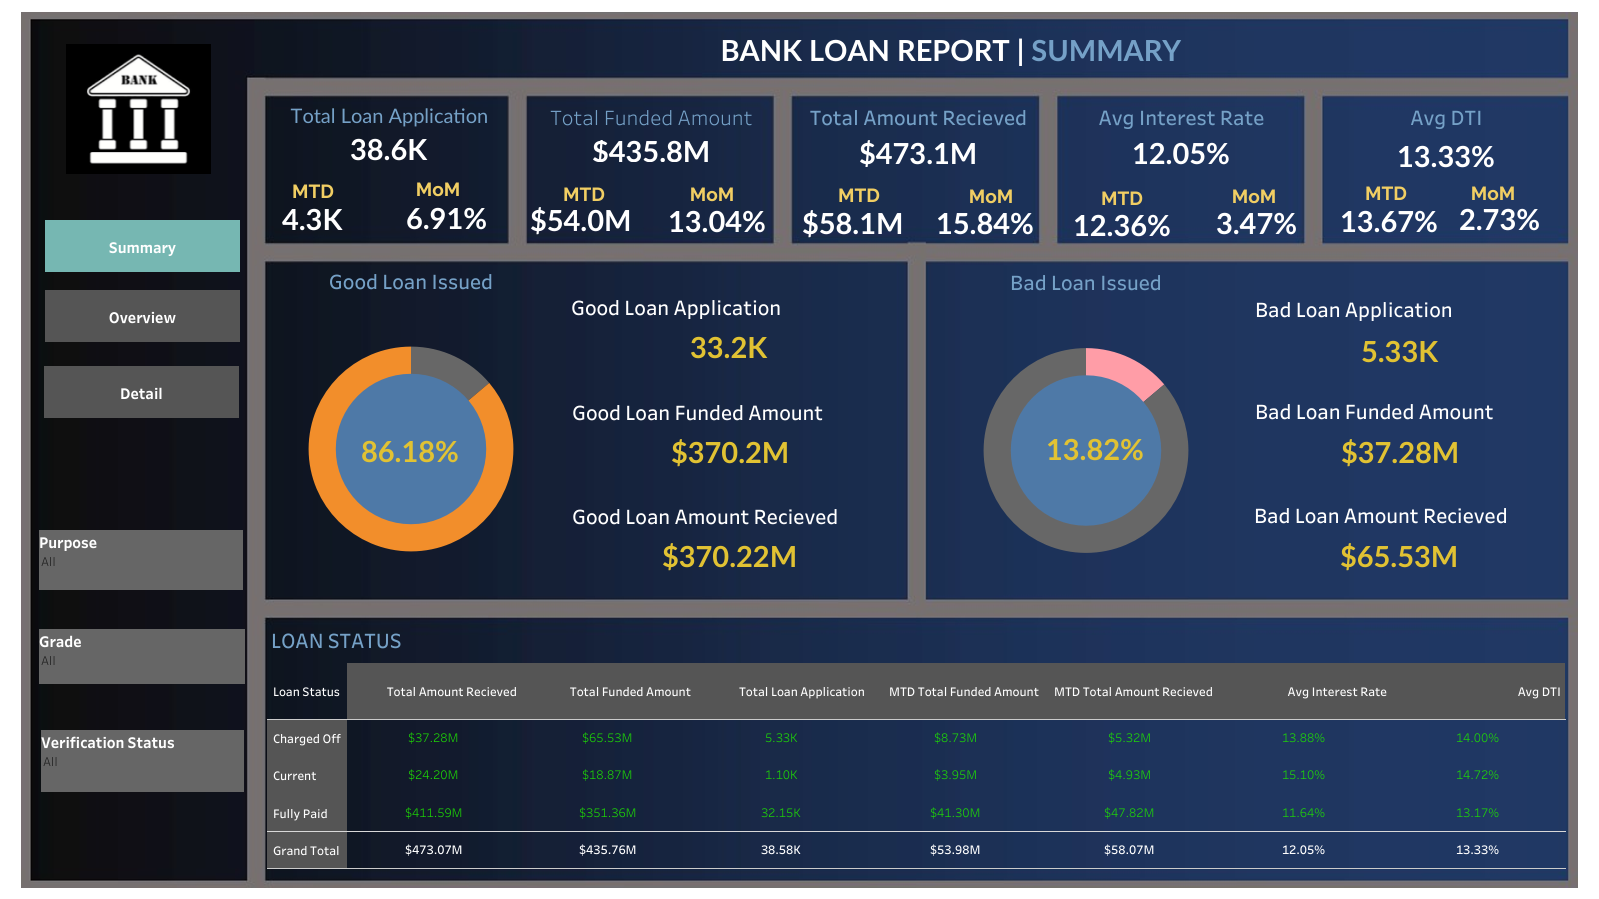

This screenshot's page, from the dashboard's own definition file:
{"tool":"tableau","page":{"name":"Summary","canvas":[1600,900],"ordinal":2},"visuals":[{"type":"image","param":"Image/Tableau Background 1.jpg","box":[8,8,1584,884]},{"type":"text","box":[718,32,466,36]},{"type":"image","param":"Image/download.png","box":[66,36,145,146]},{"type":"worksheet","title":"Total Loan Application","mark":"Automatic","box":[267,97,245,64]},{"type":"worksheet","title":"Total Funded Amount","mark":"Automatic","box":[530,97,243,65]},{"type":"worksheet","title":"Total Amount Recieved","mark":"Automatic","box":[797,97,243,70]},{"type":"worksheet","title":"Avg Interest Rate","mark":"Automatic","box":[1059,97,245,69]},{"type":"worksheet","title":"Avg DTI","mark":"Automatic","box":[1325,97,243,76]},{"type":"text","box":[404,174,68,30]},{"type":"text","box":[279,176,68,30]},{"type":"text","box":[1352,178,68,30]},{"type":"text","box":[1459,178,68,30]},{"type":"text","box":[550,179,68,30]},{"type":"text","box":[678,179,68,30]},{"type":"text","box":[825,180,68,30]},{"type":"text","box":[957,181,68,30]},{"type":"text","box":[1220,181,68,30]},{"type":"text","box":[1088,183,68,30]},{"type":"worksheet","title":"MTD Total Amount Recieved","mark":"Automatic","box":[797,189,113,68]},{"type":"worksheet","title":"MoM Total Funded Amount","mark":"Automatic","box":[664,190,107,62]},{"type":"worksheet","title":"MoM Loan Application","mark":"Automatic","box":[389,193,117,50]},{"type":"worksheet","title":"MoM Avg DTI","mark":"Automatic","box":[1449,195,102,49]},{"type":"worksheet","title":"MoM Avg Interest Rate","mark":"Automatic","box":[1189,196,136,54]},{"type":"worksheet","title":"MoM Total Amount Recieved","mark":"Automatic","box":[932,197,106,52]},{"type":"worksheet","title":"MTD Avg DTI","mark":"Automatic","box":[1328,197,122,48]},{"type":"worksheet","title":"MTD Total Funded Amount","mark":"Automatic","box":[513,199,136,42]},{"type":"worksheet","title":"MTD Avg Interest Rate","mark":"Automatic","box":[1060,200,126,50]},{"type":"worksheet","title":"MTD Total Loan Application","mark":"Automatic","box":[263,204,100,31]},{"type":"dashboard-object","box":[45,220,195,52]},{"type":"worksheet","title":"Good Loan Issued","mark":"Pie","rows":["Calculation_15832980523184248","Calculation_15832980523184248"],"box":[273,261,276,333]},{"type":"worksheet","title":"Bad Loan Issued","mark":"Pie","rows":["Calculation_15832980523184248","Calculation_15832980523184248"],"box":[929,262,314,334]},{"type":"worksheet","title":"Good Loan Application","mark":"Automatic","box":[563,283,333,85]},{"type":"worksheet","title":"Bad Loan Application","mark":"Automatic","box":[1247,285,308,89]},{"type":"dashboard-object","box":[45,290,195,52]},{"type":"dashboard-object","box":[44,366,195,52]},{"type":"worksheet","title":"Bad Loan Funded Amount","mark":"Automatic","box":[1247,387,308,88]},{"type":"worksheet","title":"Good Loan Funded Amount","mark":"Automatic","box":[564,388,333,85]},{"type":"worksheet","title":"Bad Loan Percentage","mark":"Automatic","box":[1017,399,157,101]},{"type":"worksheet","title":"Good Loan Percentage","mark":"Automatic","box":[344,427,133,48]},{"type":"worksheet","title":"Bad Loan Amount Recieved","mark":"Automatic","box":[1246,491,308,88]},{"type":"worksheet","title":"Good Loan Amount Recieved","mark":"Automatic","box":[564,492,333,85]},{"type":"filter","title":"Good Loan Issued","param":"[federated.0mmfcsv0gbctox1frqz0318h6qjj].[none:purpose:nk]","box":[39,530,204,60]},{"type":"worksheet","title":"LOAN STATUS","mark":"Automatic","rows":["loan_status"],"box":[267,620,1299,249]},{"type":"filter","title":"Good Loan Issued","param":"[federated.0mmfcsv0gbctox1frqz0318h6qjj].[none:grade:nk]","box":[39,629,206,55]},{"type":"filter","title":"Good Loan Issued","param":"[federated.0mmfcsv0gbctox1frqz0318h6qjj].[none:verification_status:nk]","box":[41,730,203,62]}]}

Visuals, with their boxes in screenshot pixels (x1, y1, x2, y2), scaled from the page's 1600x900 canvas onto the 1599x899 screenshot:
image: (x1=8, y1=8, x2=1591, y2=891)
text: (x1=718, y1=32, x2=1183, y2=68)
image: (x1=66, y1=36, x2=211, y2=182)
"Total Loan Application" worksheet: (x1=267, y1=97, x2=512, y2=161)
"Total Funded Amount" worksheet: (x1=530, y1=97, x2=773, y2=162)
"Total Amount Recieved" worksheet: (x1=797, y1=97, x2=1039, y2=167)
"Avg Interest Rate" worksheet: (x1=1058, y1=97, x2=1303, y2=166)
"Avg DTI" worksheet: (x1=1324, y1=97, x2=1567, y2=173)
text: (x1=404, y1=174, x2=472, y2=204)
text: (x1=279, y1=176, x2=347, y2=206)
text: (x1=1351, y1=178, x2=1419, y2=208)
text: (x1=1458, y1=178, x2=1526, y2=208)
text: (x1=550, y1=179, x2=618, y2=209)
text: (x1=678, y1=179, x2=746, y2=209)
text: (x1=824, y1=180, x2=892, y2=210)
text: (x1=956, y1=181, x2=1024, y2=211)
text: (x1=1219, y1=181, x2=1287, y2=211)
text: (x1=1087, y1=183, x2=1155, y2=213)
"MTD Total Amount Recieved" worksheet: (x1=797, y1=189, x2=909, y2=257)
"MoM Total Funded Amount" worksheet: (x1=664, y1=190, x2=771, y2=252)
"MoM Loan Application" worksheet: (x1=389, y1=193, x2=506, y2=243)
"MoM Avg DTI" worksheet: (x1=1448, y1=195, x2=1550, y2=244)
"MoM Avg Interest Rate" worksheet: (x1=1188, y1=196, x2=1324, y2=250)
"MoM Total Amount Recieved" worksheet: (x1=931, y1=197, x2=1037, y2=249)
"MTD Avg DTI" worksheet: (x1=1327, y1=197, x2=1449, y2=245)
"MTD Total Funded Amount" worksheet: (x1=513, y1=199, x2=649, y2=241)
"MTD Avg Interest Rate" worksheet: (x1=1059, y1=200, x2=1185, y2=250)
"MTD Total Loan Application" worksheet: (x1=263, y1=204, x2=363, y2=235)
dashboard-object: (x1=45, y1=220, x2=240, y2=272)
"Good Loan Issued" worksheet (Pie marks): (x1=273, y1=261, x2=549, y2=593)
"Bad Loan Issued" worksheet (Pie marks): (x1=928, y1=262, x2=1242, y2=595)
"Good Loan Application" worksheet: (x1=563, y1=283, x2=895, y2=368)
"Bad Loan Application" worksheet: (x1=1246, y1=285, x2=1554, y2=374)
dashboard-object: (x1=45, y1=290, x2=240, y2=342)
dashboard-object: (x1=44, y1=366, x2=239, y2=418)
"Bad Loan Funded Amount" worksheet: (x1=1246, y1=387, x2=1554, y2=474)
"Good Loan Funded Amount" worksheet: (x1=564, y1=388, x2=896, y2=472)
"Bad Loan Percentage" worksheet: (x1=1016, y1=399, x2=1173, y2=499)
"Good Loan Percentage" worksheet: (x1=344, y1=427, x2=477, y2=474)
"Bad Loan Amount Recieved" worksheet: (x1=1245, y1=490, x2=1553, y2=578)
"Good Loan Amount Recieved" worksheet: (x1=564, y1=491, x2=896, y2=576)
"Good Loan Issued" filter: (x1=39, y1=529, x2=243, y2=589)
"LOAN STATUS" worksheet: (x1=267, y1=619, x2=1565, y2=868)
"Good Loan Issued" filter: (x1=39, y1=628, x2=245, y2=683)
"Good Loan Issued" filter: (x1=41, y1=729, x2=244, y2=791)
